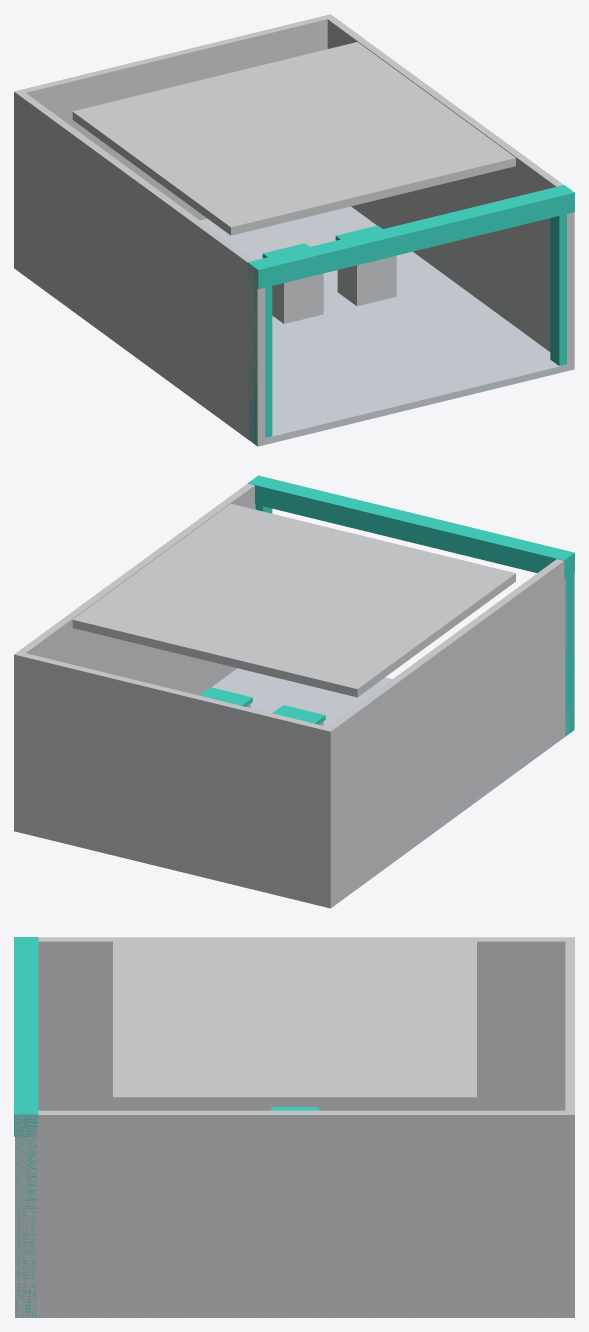
3 renders of one model, top to bottom at view 1: azimuth 30°, elevation 25°; view 2: azimuth 150°, elevation 25°; view 3: azimuth 270°, elevation 25°, orthographic. The views are drawn at different scales.
Parts seen in each view (by area): view 1: Exhibition Booth Concept; view 2: Exhibition Booth Concept; view 3: Exhibition Booth Concept.
Part boxes in pixels (<box>): Exhibition Booth Concept: <box>14,14,574,446</box>; Exhibition Booth Concept: <box>14,475,574,908</box>; Exhibition Booth Concept: <box>14,937,574,1317</box>.
Bounding box in the file's own units: 6 × 3.34 × 8.01.
